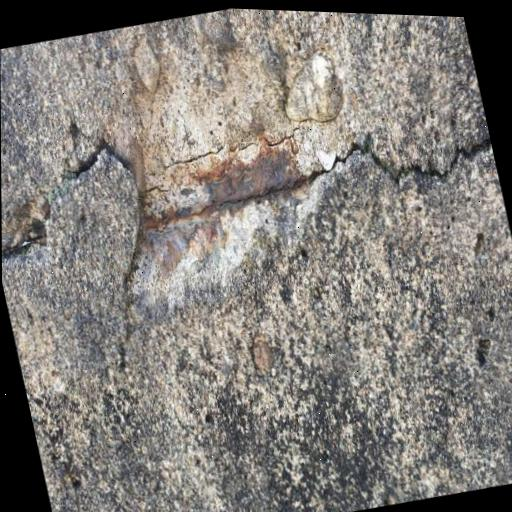exposed_rebar: (143, 148, 301, 228)
